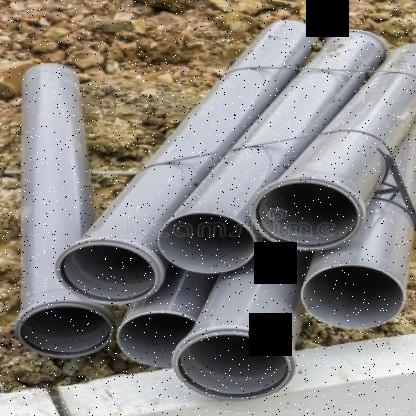pipe: (174, 329, 294, 400), (251, 177, 363, 250), (300, 263, 405, 330), (55, 239, 163, 304), (159, 212, 258, 274), (16, 301, 116, 357), (118, 311, 197, 368)
